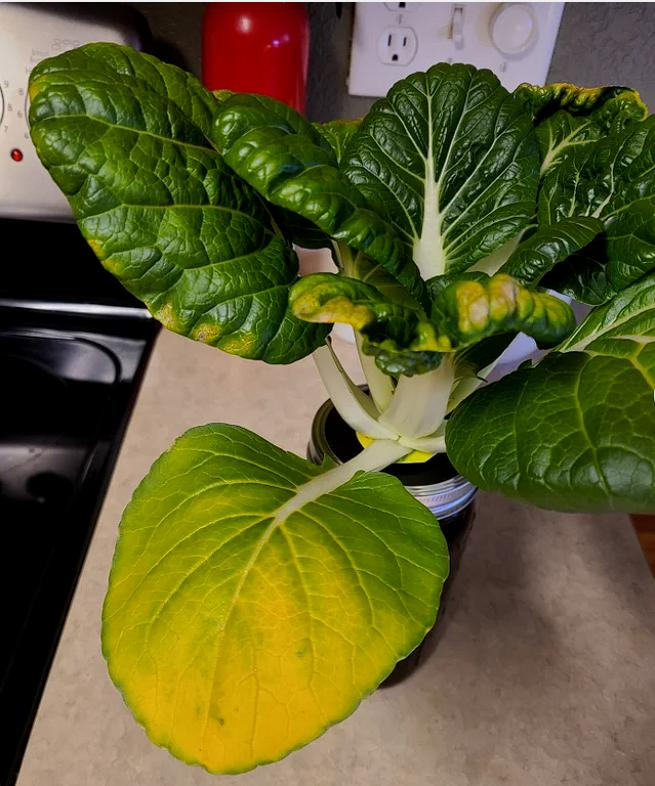Bok-Choy-Diseased: (109, 432, 451, 773), (20, 52, 297, 356), (289, 280, 585, 365)
